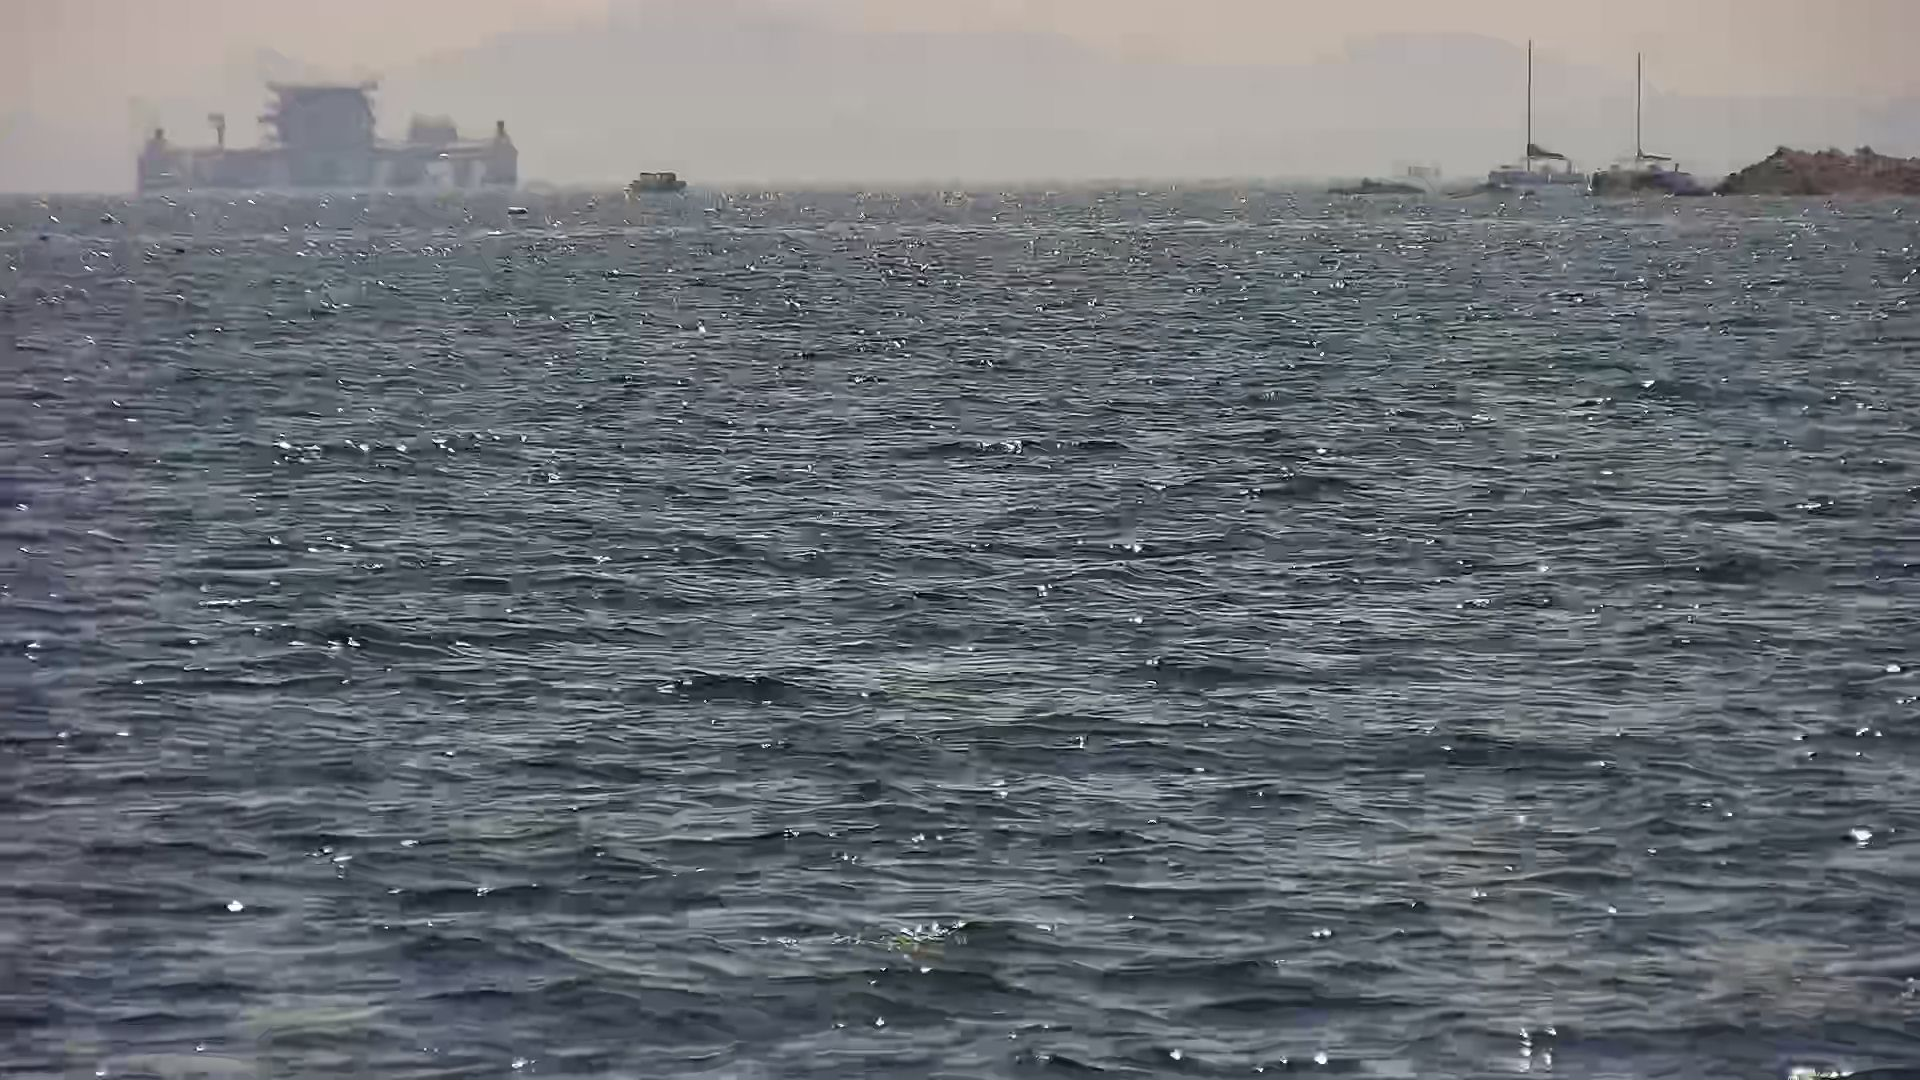boat: (1482, 34, 1594, 196), (1598, 40, 1697, 199), (630, 166, 692, 190)
platform: (135, 75, 520, 194)
rubbish: (1324, 169, 1428, 202)
